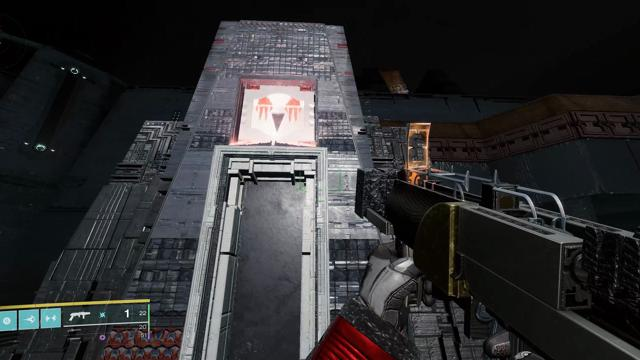give: (250, 93, 305, 137)
